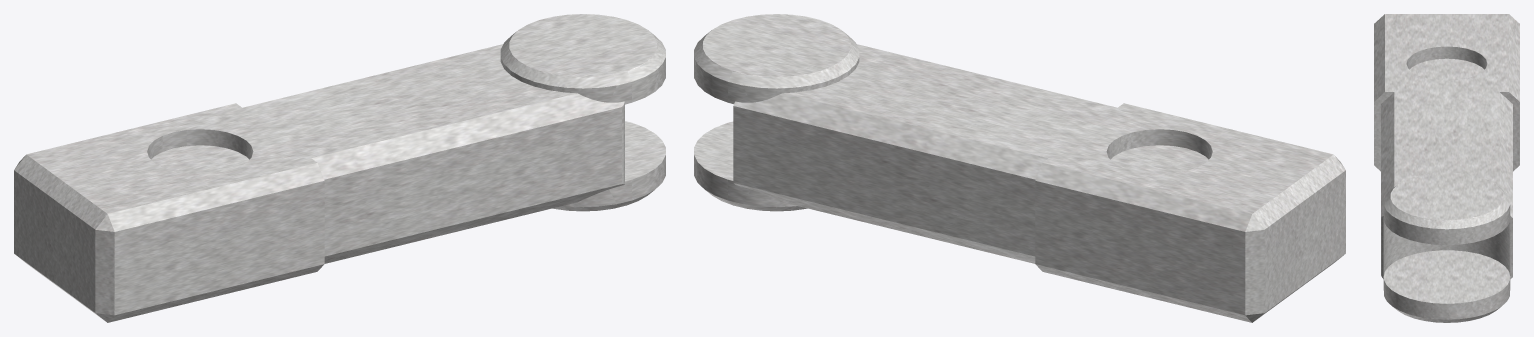
The model's file is forearm.dae.
3 renders of one model, left to right at view 1: azimuth 30°, elevation 25°; view 2: azimuth 150°, elevation 25°; view 3: azimuth 270°, elevation 25°, orthographic. The views are drawn at different scales.
Parts seen in each view (by area): view 1: Body_1; view 2: Body_1; view 3: Body_1.
Part boxes in pixels (x1,y1,x2,y2): Body_1: (14, 14, 665, 322); Body_1: (694, 14, 1345, 322); Body_1: (1374, 14, 1519, 322).
Size of the model in its own units: 0.392 by 0.108 by 0.084.
Materials: 1 (1 with a texture image).
